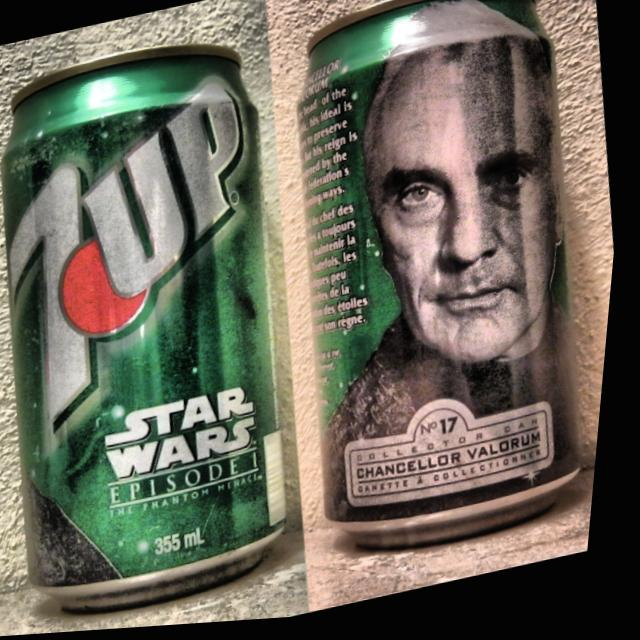Cans: (244, 0, 640, 590), (0, 12, 363, 640)
